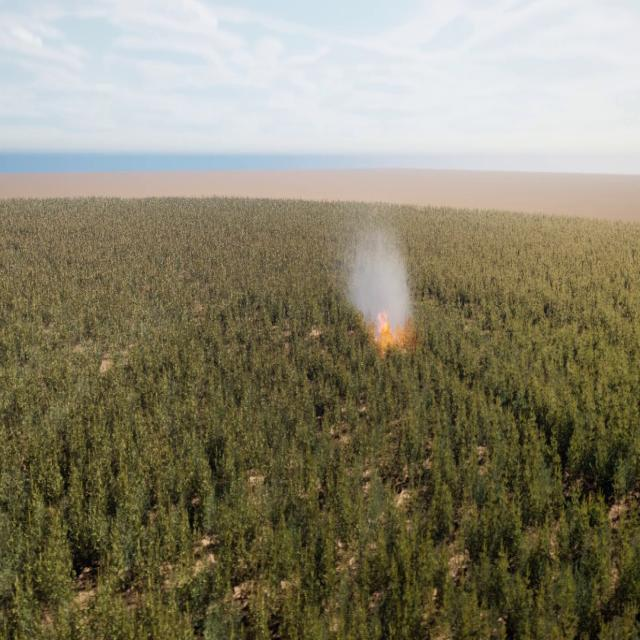fire: (373, 306, 411, 349)
smoke: (336, 212, 416, 339)
